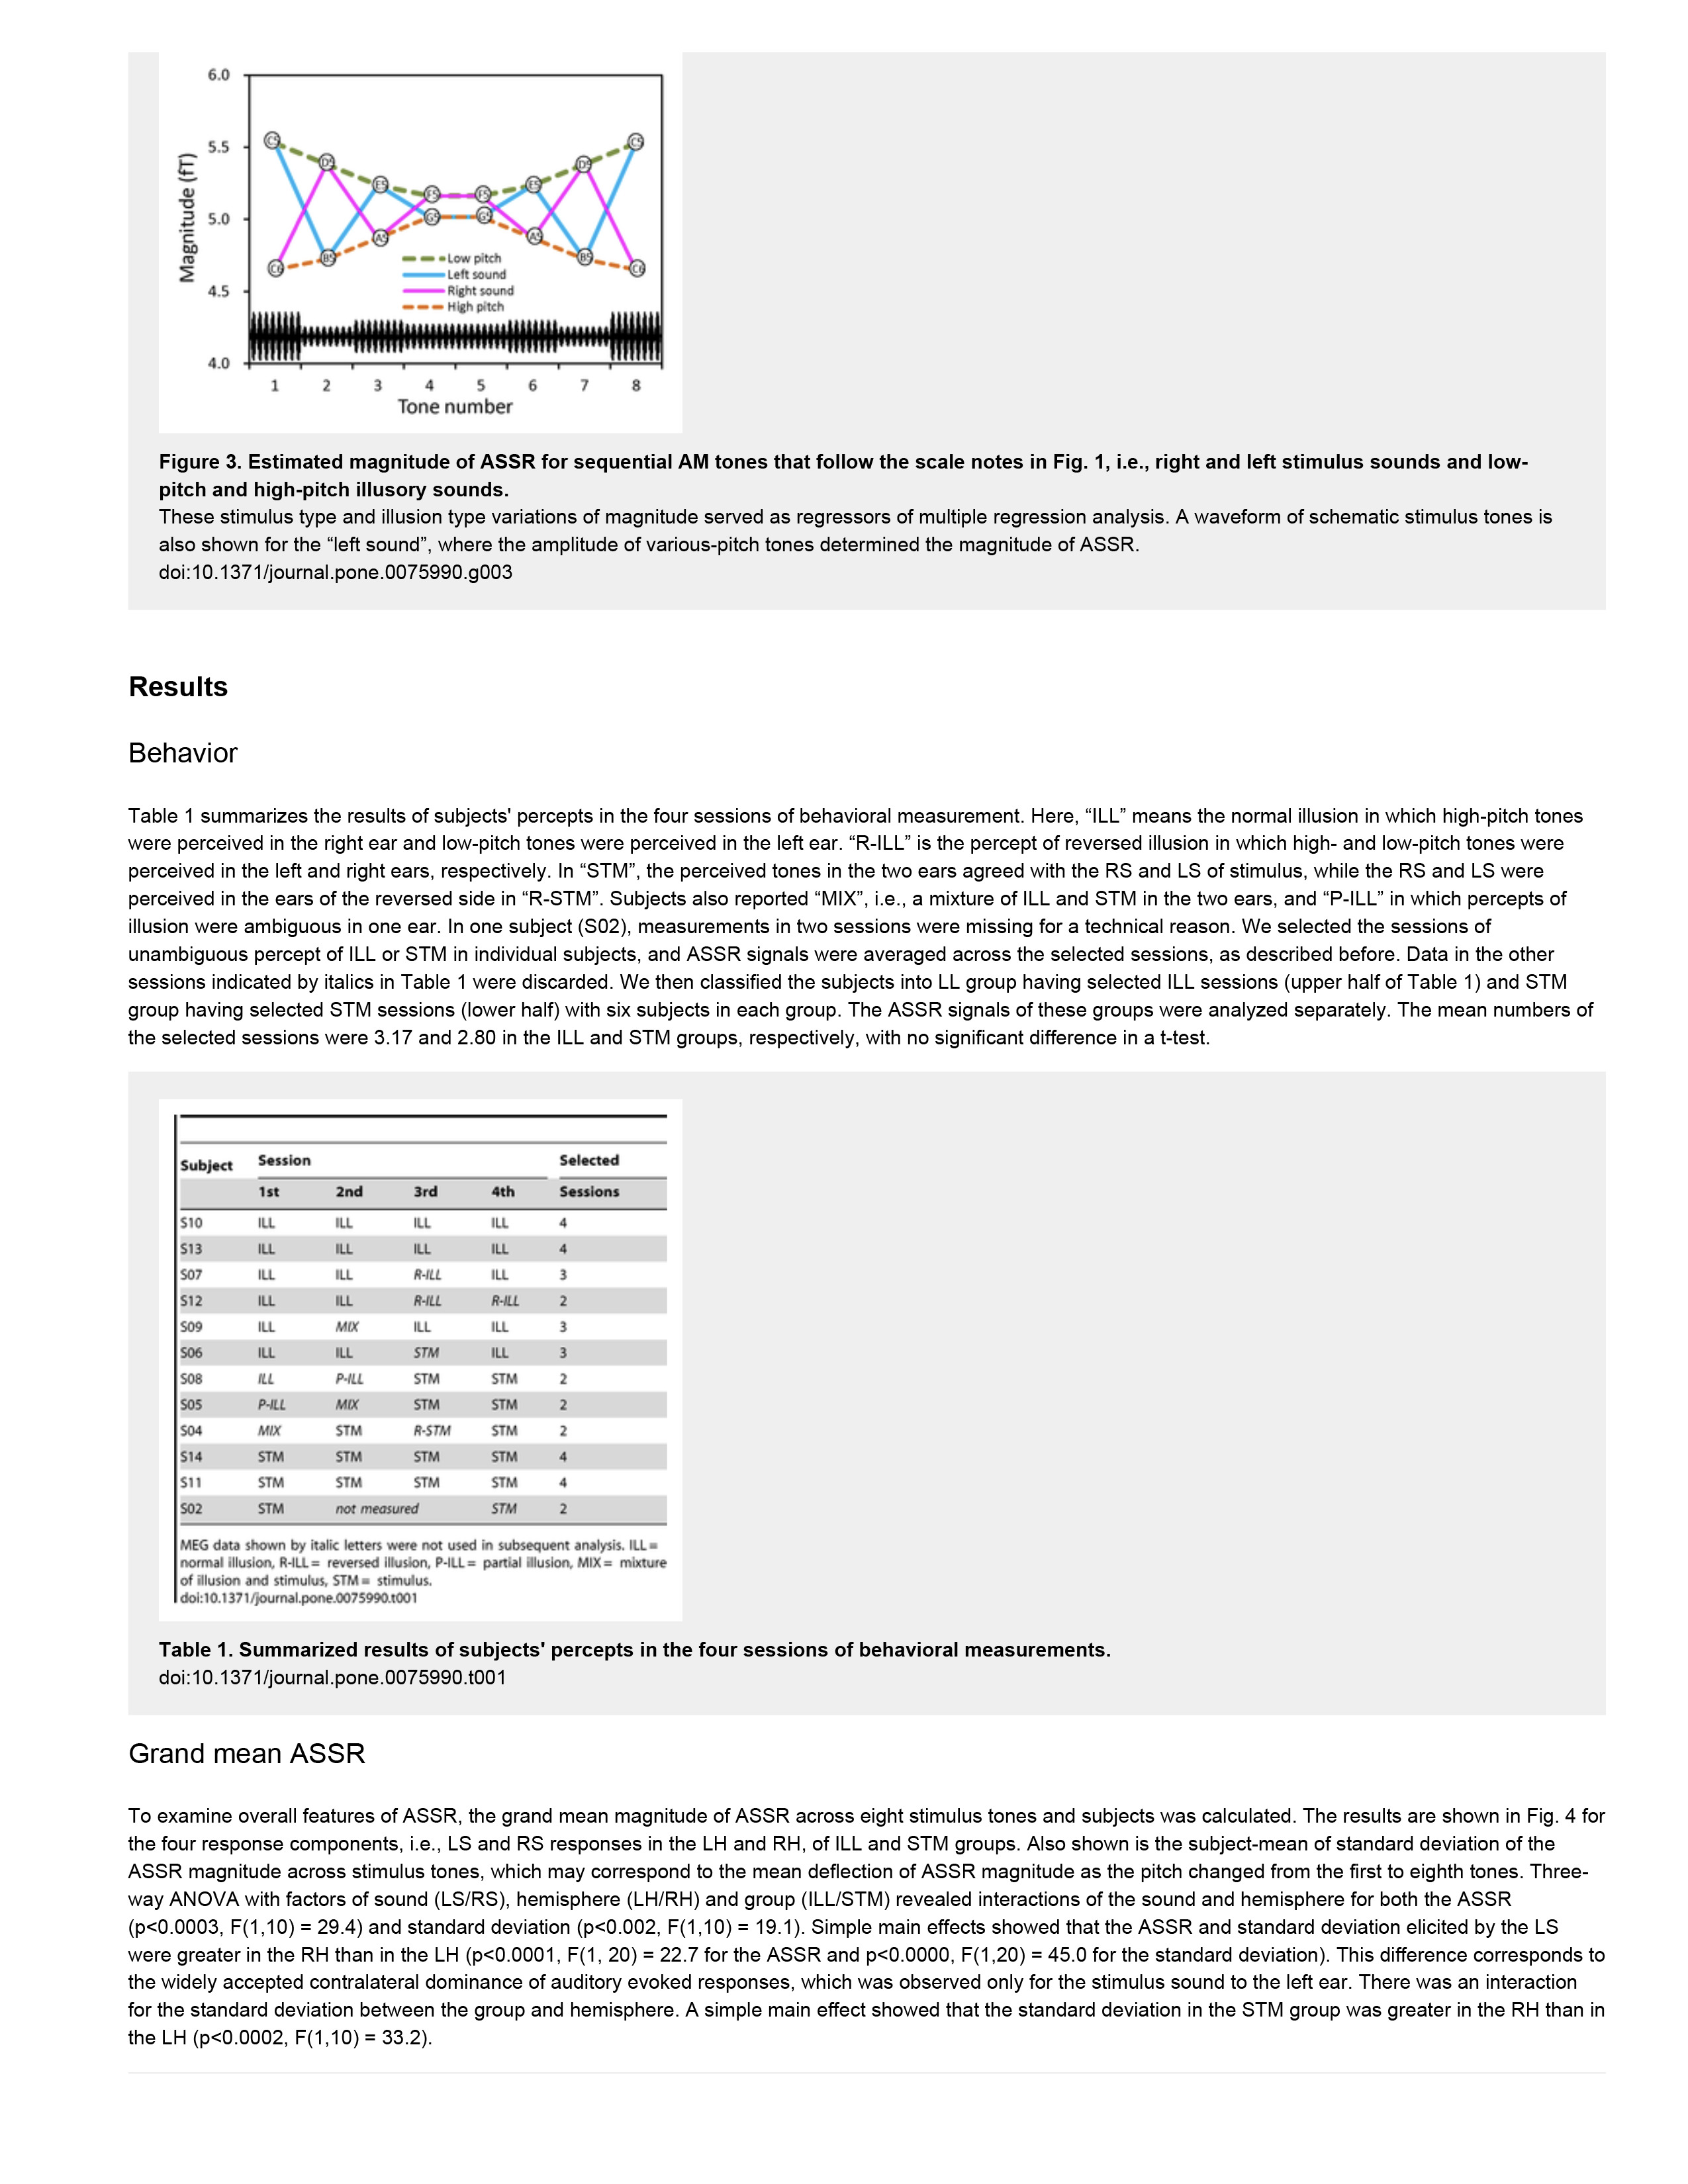caption: (156, 447, 1559, 599), (147, 1618, 1096, 1705)
figure: (160, 1096, 668, 1626), (160, 67, 676, 429)
section: (122, 1732, 376, 1771), (126, 652, 255, 709), (121, 729, 243, 782)
text: (121, 799, 1582, 1065), (121, 1808, 1608, 2063)
